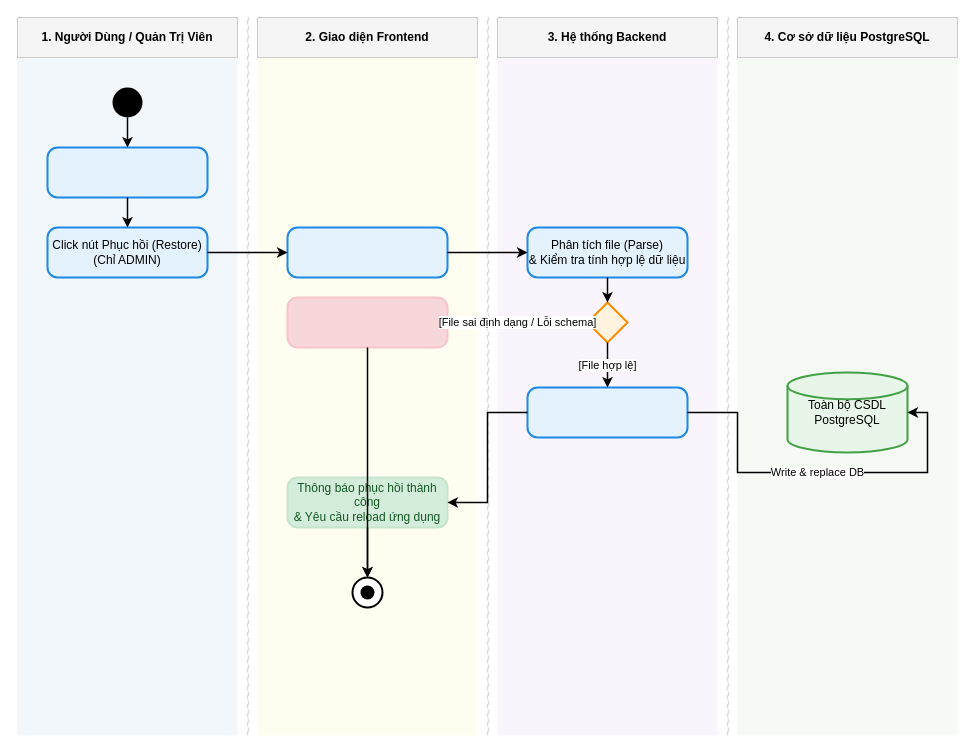
This 975x754 diagram has some shape labels left out. Each missing label, with the centre of its shape:
Chọn file sao lưu từ máy tính (Định dạng .json / .sql): [127,172]
Hiển thị thông báo lỗi cấu trúc file: [367,322]
Thực hiện xóa & Ghi đè dữ liệu phục hồi vào CSDL: [607,412]
Upload file lên Backend: [367,252]
